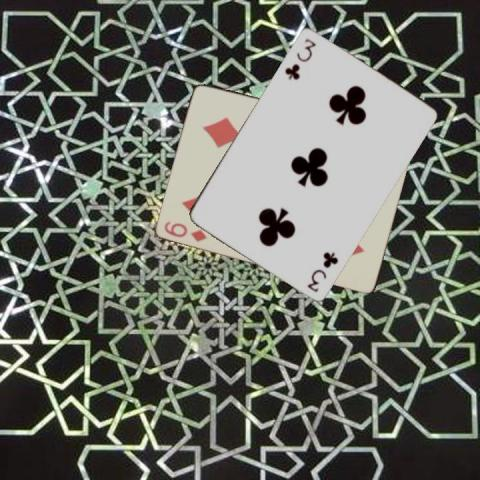3c: (282, 35, 317, 81), (304, 249, 340, 293)
6d: (162, 218, 210, 243)
